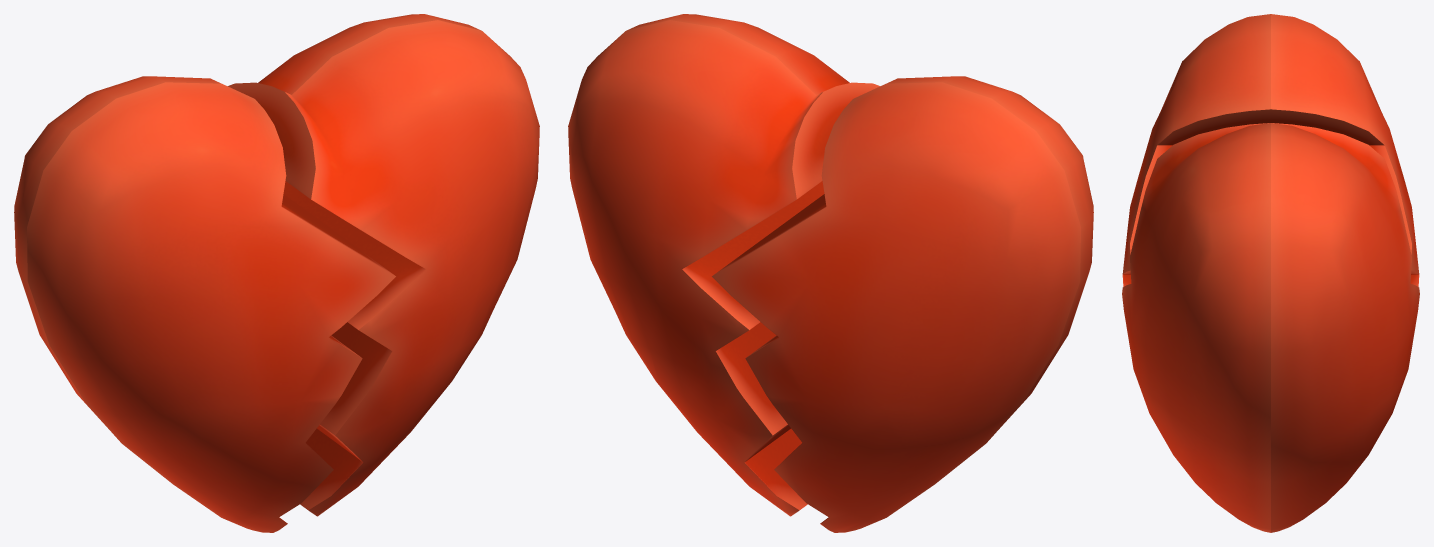
Rendered from Heart.FBX.
The picture shows the model from 3 angles, left to right: view 1: azimuth 30°, elevation 25°; view 2: azimuth 150°, elevation 25°; view 3: azimuth 270°, elevation 25°; orthographic projection. The views are drawn at different scales.
Visible parts, largest first — view 1: Acc_Heart; view 2: Acc_Heart; view 3: Acc_Heart.
Part boxes in pixels (<box>): Acc_Heart: <box>14,14,539,532</box>; Acc_Heart: <box>568,14,1093,532</box>; Acc_Heart: <box>1122,14,1419,532</box>.
Size of the model in its own units: 102 by 91.88 by 55.96.
